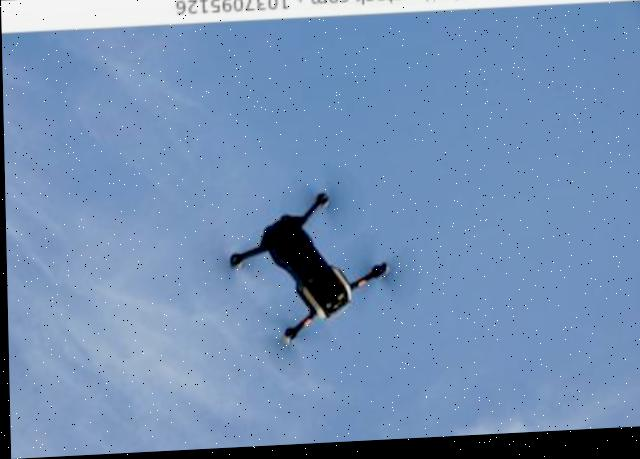drone: (0, 0, 640, 242)
